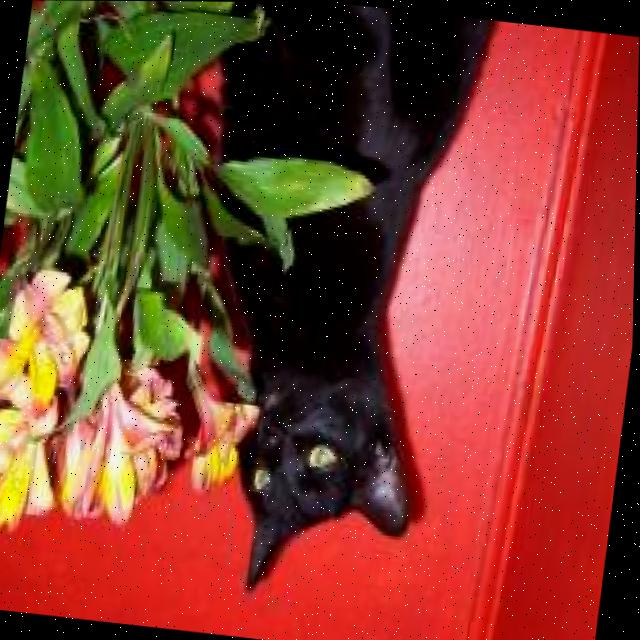Bombay: (143, 1, 504, 616)
